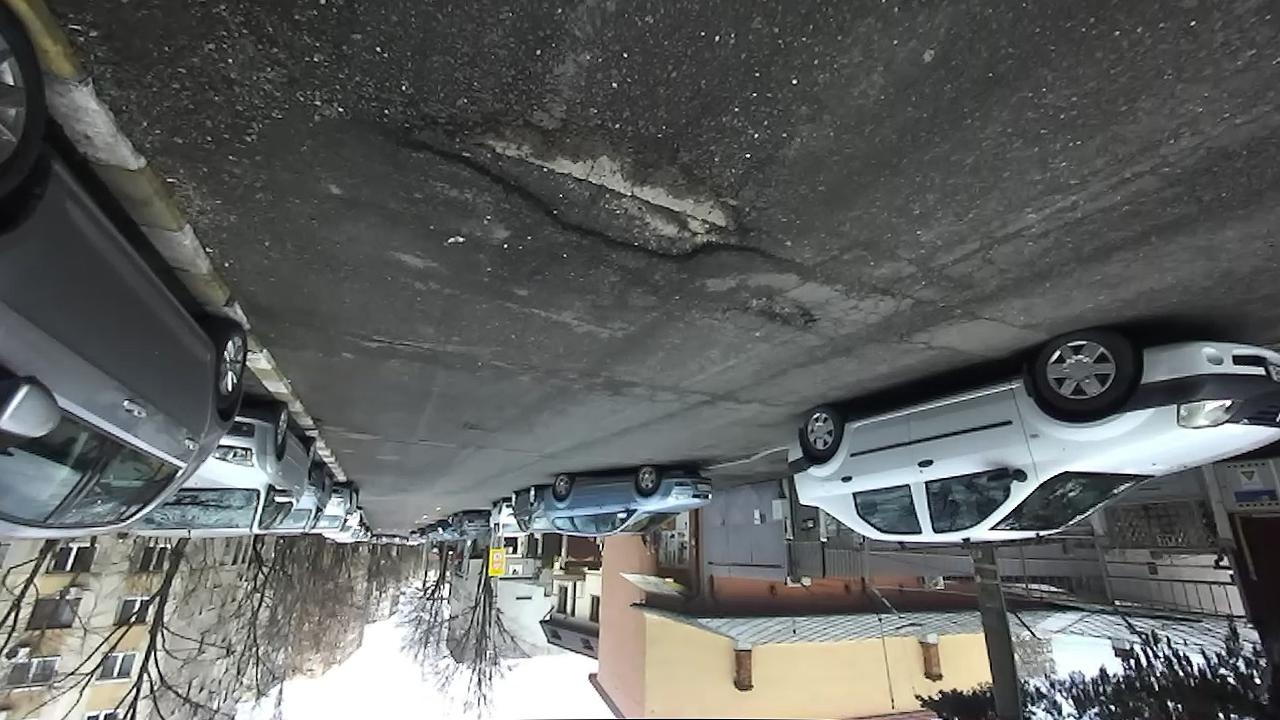pothole: (372, 106, 801, 272), (724, 289, 829, 340), (344, 330, 439, 358)
